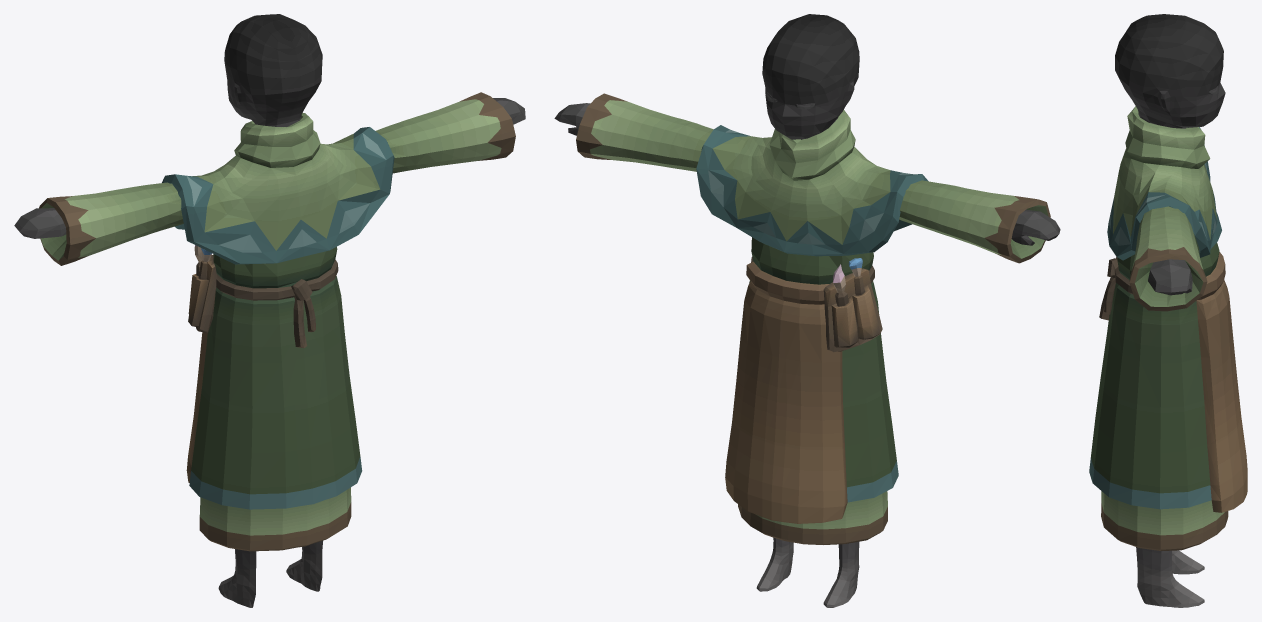
The model's file is CharSkyKid_Body_AP27Caretaker.glb.
The picture shows the model from 3 angles, left to right: view 1: azimuth 30°, elevation 25°; view 2: azimuth 150°, elevation 25°; view 3: azimuth 270°, elevation 25°; orthographic projection.
Parts seen in each view (by area): view 1: CharSkyKid_Body_AP27Caretaker; view 2: CharSkyKid_Body_AP27Caretaker; view 3: CharSkyKid_Body_AP27Caretaker.
Boxes of the visible parts, bbox=[...] form: CharSkyKid_Body_AP27Caretaker: bbox=[14, 14, 525, 607]; CharSkyKid_Body_AP27Caretaker: bbox=[554, 14, 1060, 607]; CharSkyKid_Body_AP27Caretaker: bbox=[1089, 14, 1247, 607].
Size of the model in its own units: 13.83 by 14.96 by 3.78.
1 material, 1 textured.
